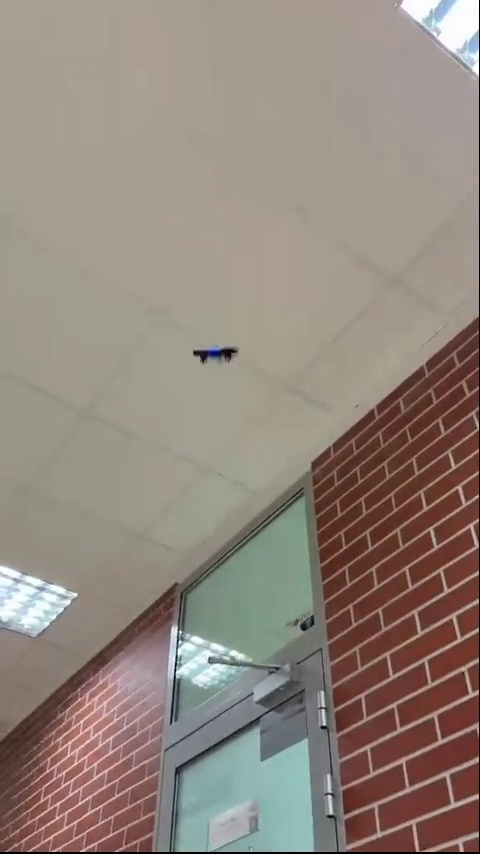drone: (194, 345, 242, 369)
